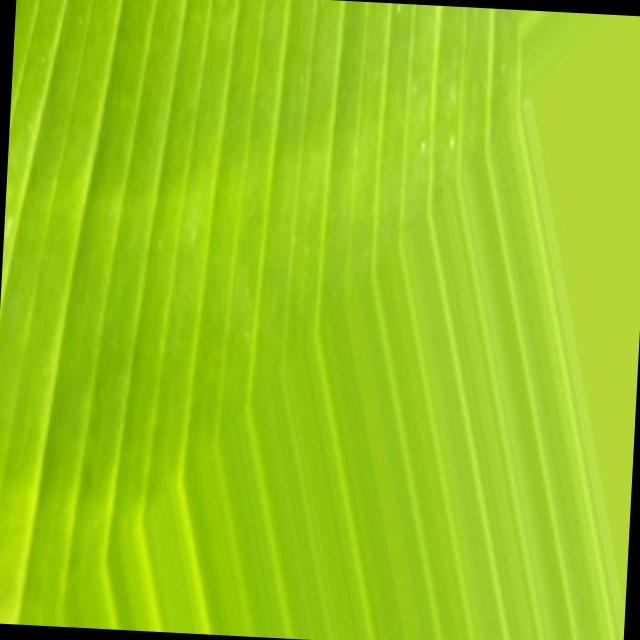Banana_Healthy: (133, 114, 542, 512)
